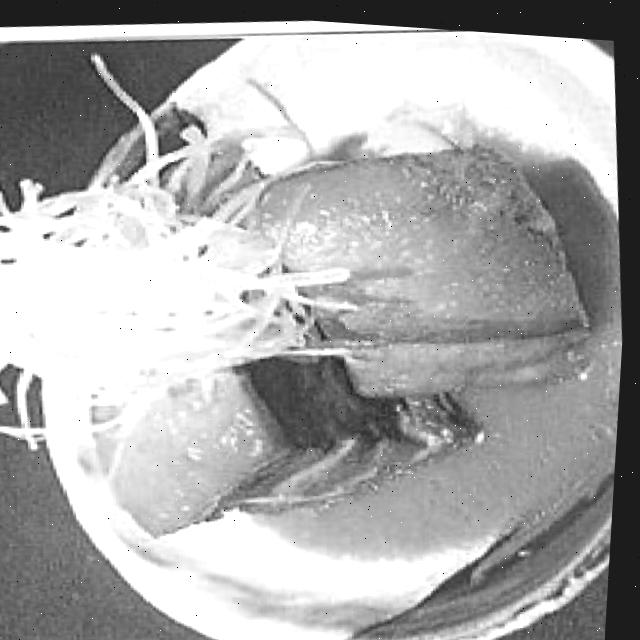猪肉菜式: (0, 5, 640, 640)
